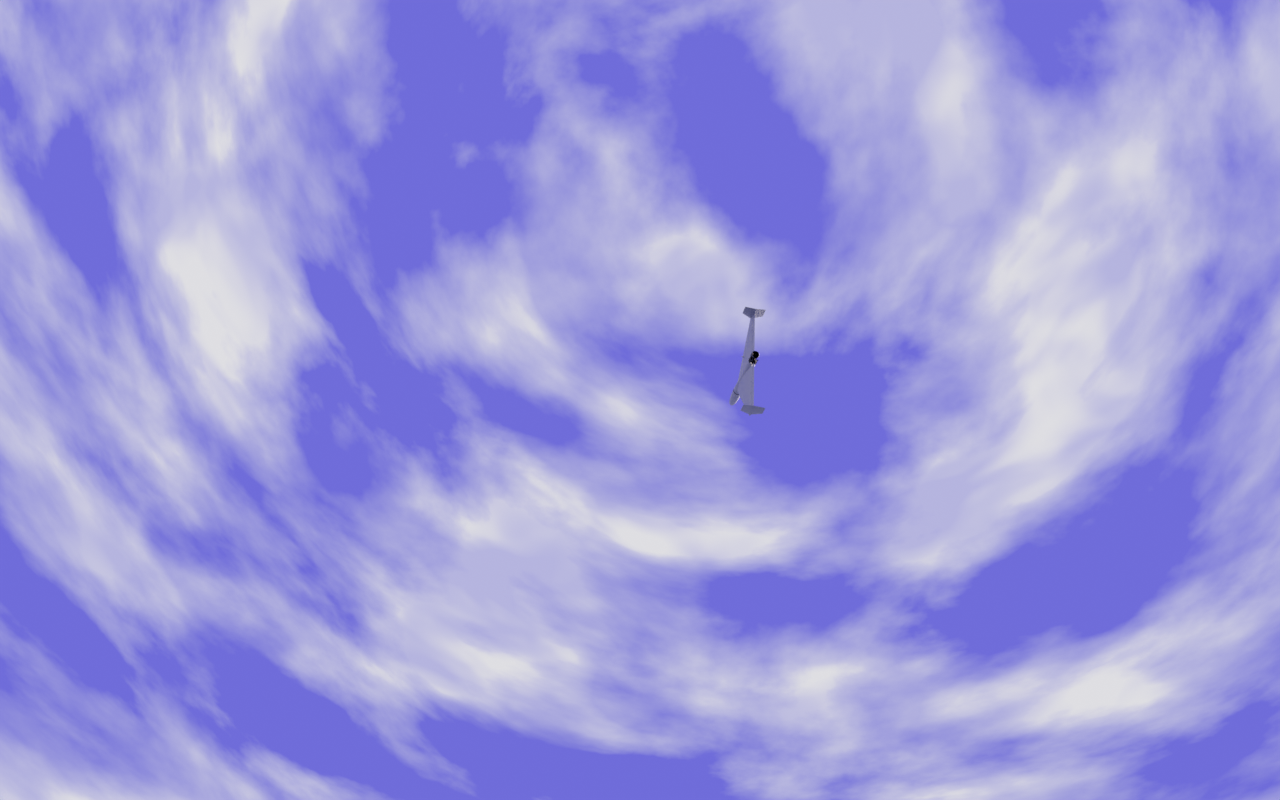shahed: (729, 307, 767, 418)
